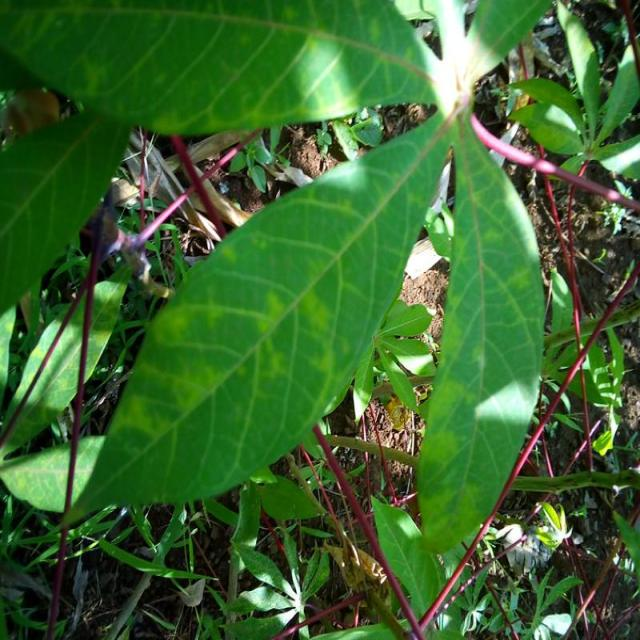cassava leaf: (4, 103, 453, 526), (0, 0, 450, 136), (415, 103, 546, 554)
